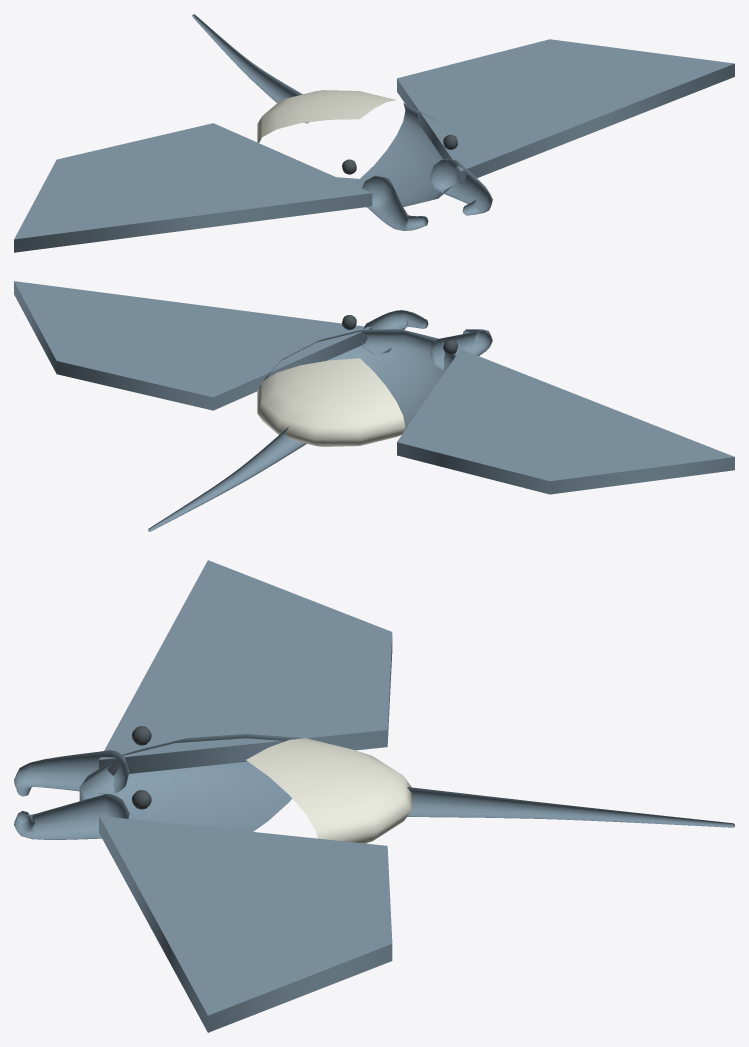
Rendered from manta.glb.
The picture shows the model from 3 angles, top to bottom: view 1: azimuth 30°, elevation 25°; view 2: azimuth 150°, elevation 25°; view 3: azimuth 270°, elevation 25°; orthographic projection. The views are drawn at different scales.
Visible parts, largest first — view 1: manta-ray; view 2: manta-ray; view 3: manta-ray.
Part boxes in pixels (box(x1,y1,x2,y2)): manta-ray: box(14, 14, 734, 252); manta-ray: box(14, 281, 734, 531); manta-ray: box(14, 560, 734, 1032).
Size of the model in its own units: 6.73 by 0.5402 by 4.5.
